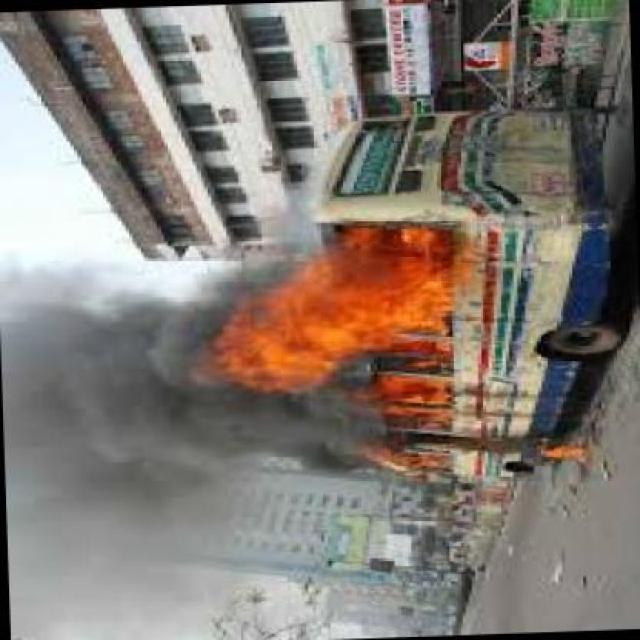Fire: (217, 222, 474, 398), (365, 370, 460, 484)
Smoke: (0, 285, 211, 634), (202, 396, 374, 491)
